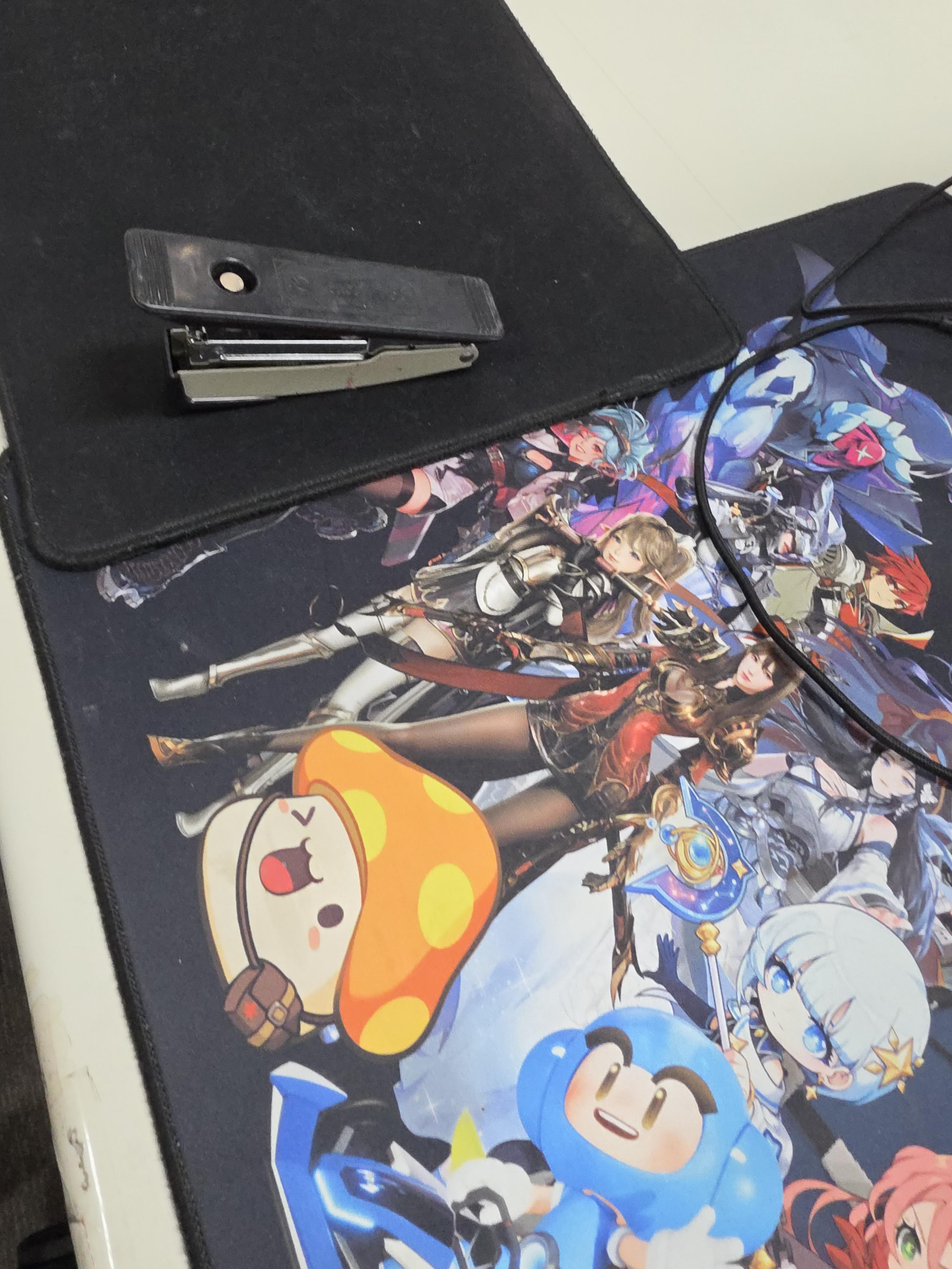stapler: (125, 227, 504, 404)
